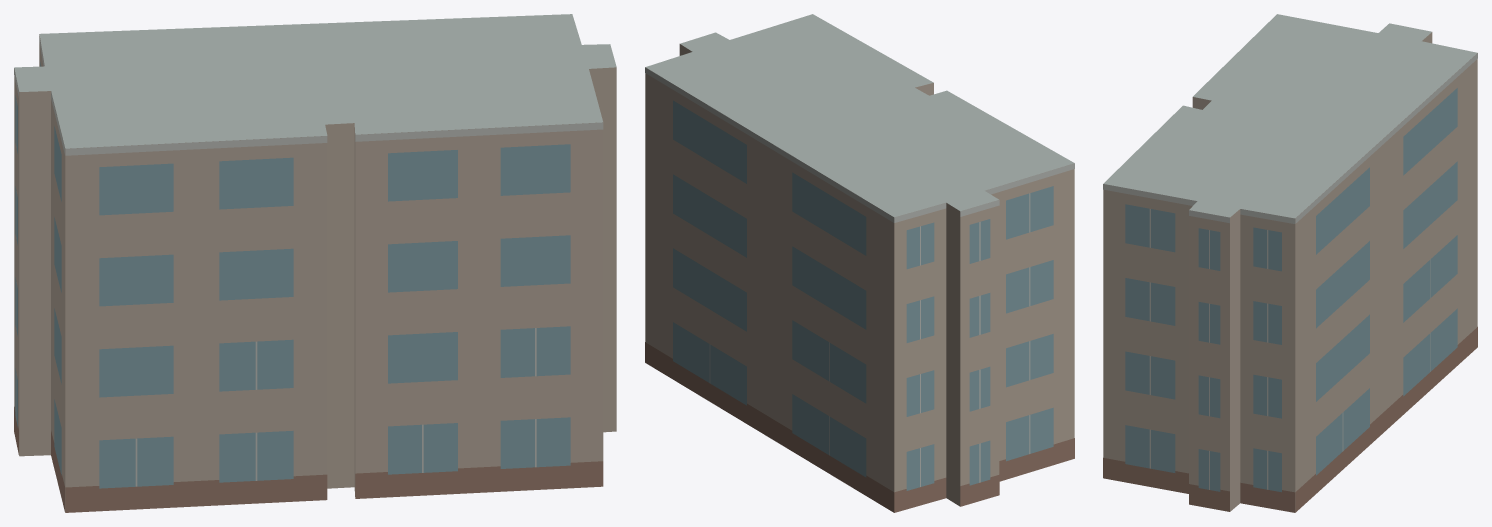
File: survey-upis-32923475.glb
The picture shows the model from 3 angles, left to right: view 1: azimuth 30°, elevation 25°; view 2: azimuth 150°, elevation 25°; view 3: azimuth 270°, elevation 25°; orthographic projection. The views are drawn at different scales.
Parts seen in each view (by area): view 1: survey-upis-32923475.tmp; view 2: survey-upis-32923475.tmp; view 3: survey-upis-32923475.tmp.
Part boxes in pixels (box(x1,y1,x2,y2)): survey-upis-32923475.tmp: box(14, 14, 616, 512); survey-upis-32923475.tmp: box(645, 14, 1074, 512); survey-upis-32923475.tmp: box(1103, 14, 1477, 512).
Size of the model in its own units: 18.62 by 12.5 by 14.43.
